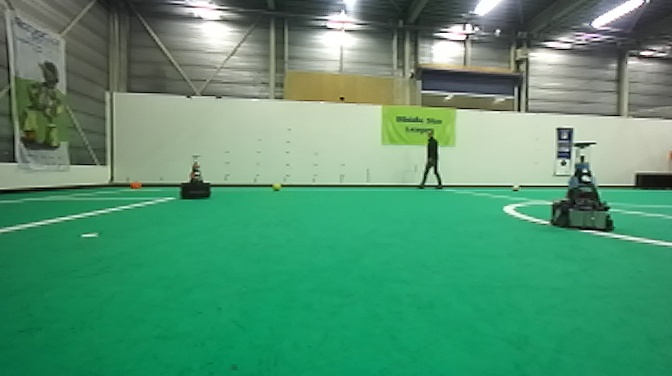ball: (126, 177, 143, 193), (270, 179, 284, 194), (510, 182, 522, 194)
human: (417, 129, 443, 189)
robot: (549, 139, 616, 232), (177, 153, 215, 201)
